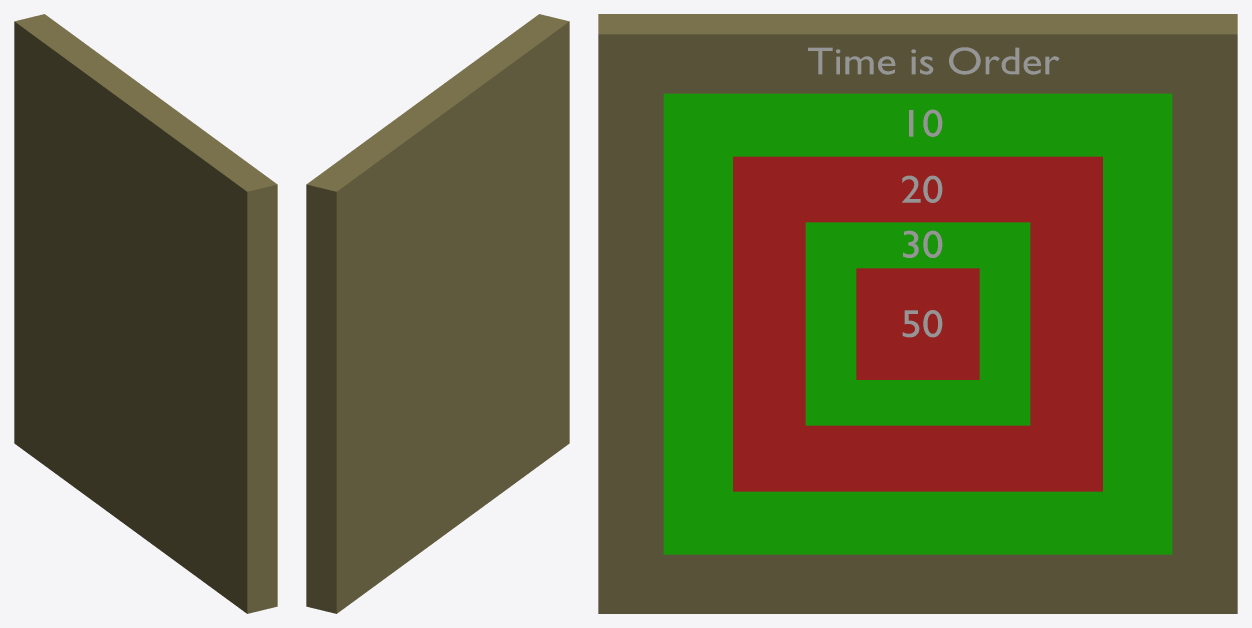
Rendered from Dart Board 1.fbx.
3 views of the same model, side by side, from view 1: azimuth 30°, elevation 25°; view 2: azimuth 150°, elevation 25°; view 3: azimuth 270°, elevation 25° (orthographic). The views are drawn at different scales.
Visible parts, largest first — view 1: Cube; view 2: Cube; view 3: Cube.013, Cube.009, Cube.010, Cube.012, Cube.011, Cube, Cube.008, Cube.005, Cube.007, Cube.006, Cube.001, Cube.003 (+3 smaller).
Part boxes in pixels (bbox=[...]): Cube: bbox=[14, 14, 277, 613]; Cube: bbox=[306, 14, 569, 613]; Cube.013: bbox=[598, 34, 1237, 613]; Cube.009: bbox=[664, 491, 1171, 554]; Cube.010: bbox=[1103, 94, 1172, 553]; Cube.012: bbox=[663, 94, 732, 553]; Cube.011: bbox=[664, 93, 1171, 156]; Cube: bbox=[598, 14, 1237, 379]; Cube.008: bbox=[733, 425, 1102, 491]; Cube.005: bbox=[1030, 157, 1102, 491]; Cube.007: bbox=[733, 157, 805, 491]; Cube.006: bbox=[733, 156, 1102, 222]; Cube.001: bbox=[979, 222, 1030, 425]; Cube.003: bbox=[805, 222, 856, 425].
Size of the model in its own units: 0.5727 by 7.53 by 7.53.
